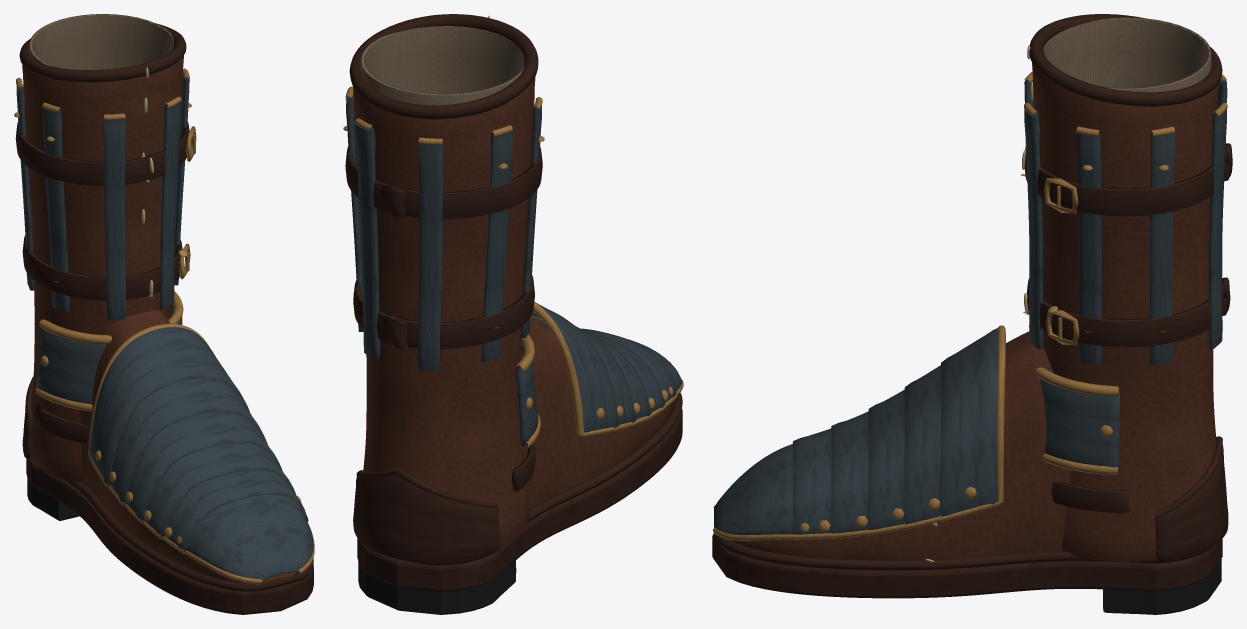
3 views of the same model, side by side, from view 1: azimuth 30°, elevation 25°; view 2: azimuth 150°, elevation 25°; view 3: azimuth 270°, elevation 25° (orthographic). The views are drawn at different scales.
Parts seen in each view (by area): view 1: blackened lamellar plate, tanned leather, oiled strap leather, quilted linen lining, aged alloy edge, recess and lining; view 2: tanned leather, oiled strap leather, blackened lamellar plate, quilted linen lining, recess and lining, aged alloy edge; view 3: tanned leather, blackened lamellar plate, oiled strap leather, quilted linen lining, aged alloy edge, recess and lining.
Boxes of the visible parts, x1,y1,x2,y2 form: blackened lamellar plate: (16,76,313,580); tanned leather: (22,55,295,583); oiled strap leather: (15,23,313,614); quilted linen lining: (29,14,173,70); aged alloy edge: (14,68,314,584); recess and lining: (27,478,79,520); tanned leather: (353,76,674,546); oiled strap leather: (345,14,682,591); blackened lamellar plate: (346,95,682,445); quilted linen lining: (360,26,524,105); recess and lining: (358,560,516,614); aged alloy edge: (343,86,683,448); tanned leather: (729,63,1219,561); blackened lamellar plate: (714,79,1227,534); oiled strap leather: (712,14,1232,598); quilted linen lining: (1043,17,1211,92); aged alloy edge: (713,71,1227,540); recess and lining: (1103,559,1221,614).
Size of the model in its own units: 0.109 by 0.3199 by 0.2795.
8 materials, 5 textured.
